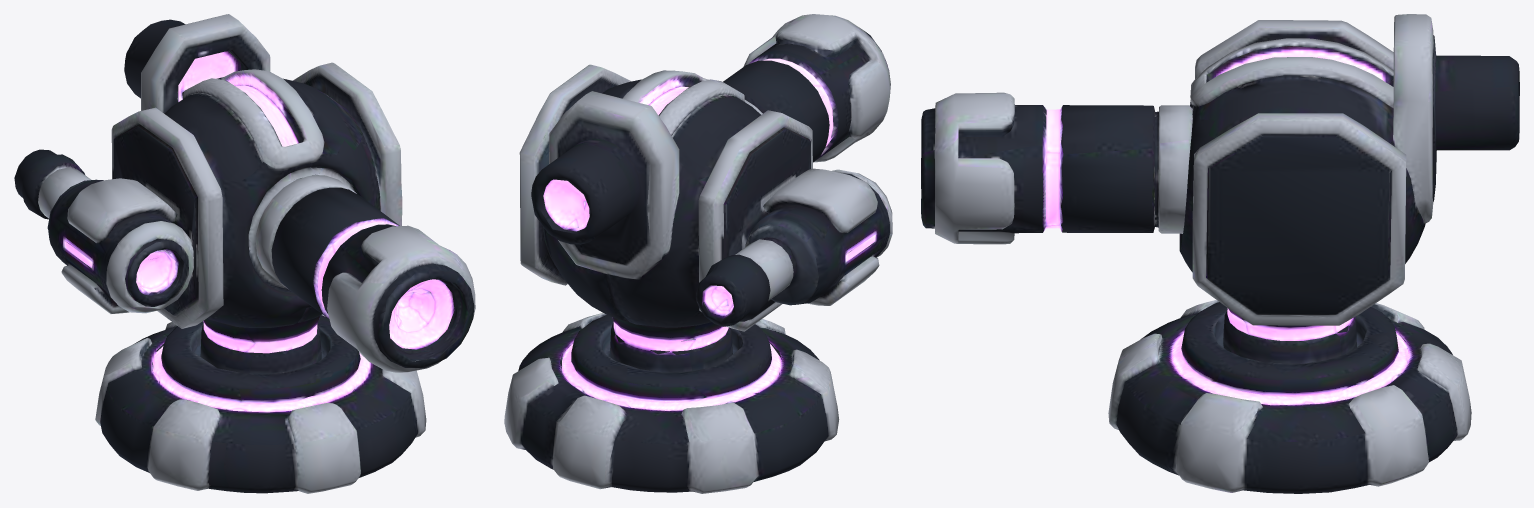
File: warrior-4-tier-3.glb
3 views of the same model, side by side, from view 1: azimuth 30°, elevation 25°; view 2: azimuth 150°, elevation 25°; view 3: azimuth 270°, elevation 25° (orthographic). The views are drawn at different scales.
Visible parts, largest first — view 1: moving-assembly, fixed-platform; view 2: moving-assembly, fixed-platform; view 3: moving-assembly, fixed-platform.
Boxes of the visible parts, x1,y1,x2,y2 form: moving-assembly: (14,14,475,372); fixed-platform: (95,314,426,493); moving-assembly: (519,14,892,339); fixed-platform: (504,313,839,493); moving-assembly: (921,14,1519,328); fixed-platform: (1108,300,1471,493).
Bounding box in the file's own units: 0.4569 × 0.4811 × 0.6627.
Materials: 1 (1 with a texture image).
